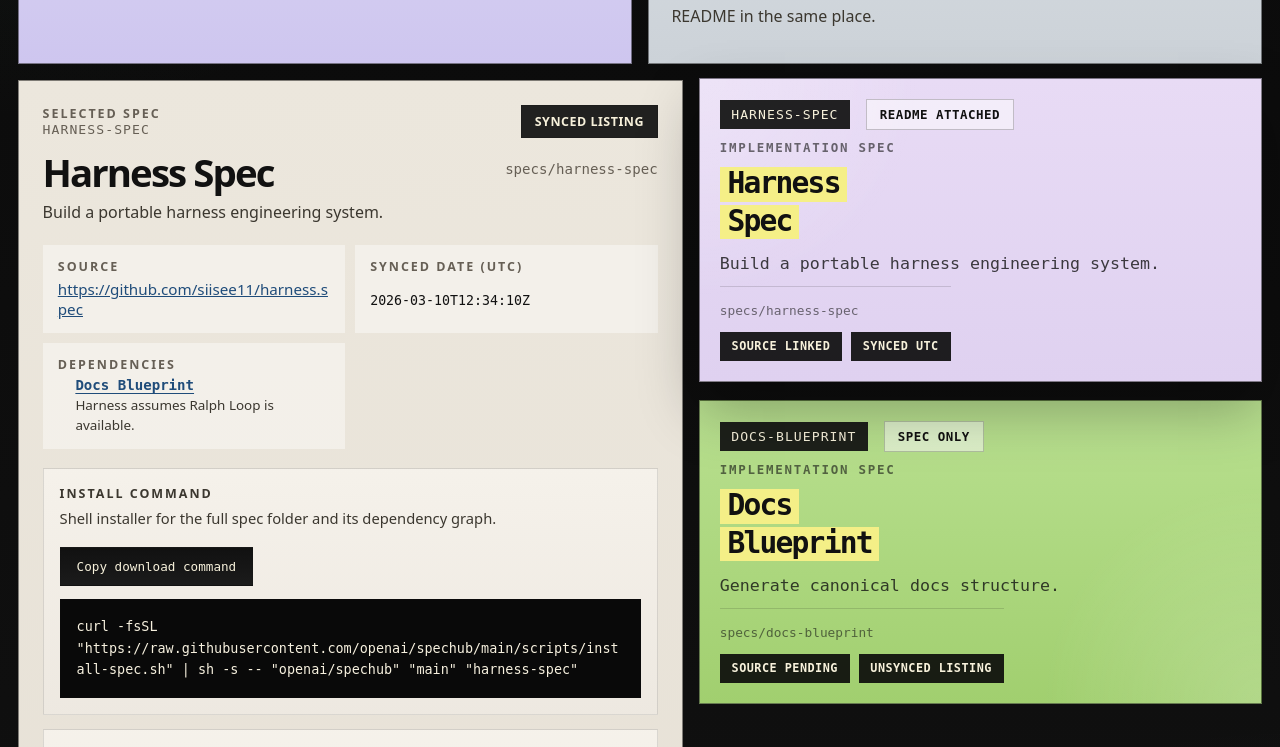
Test: App › lets users jump to a dependency from the selected spec panel
(page scrolled)
Click the button "Docs Blueprint". click: (135, 385)
box: [75, 377, 194, 393]
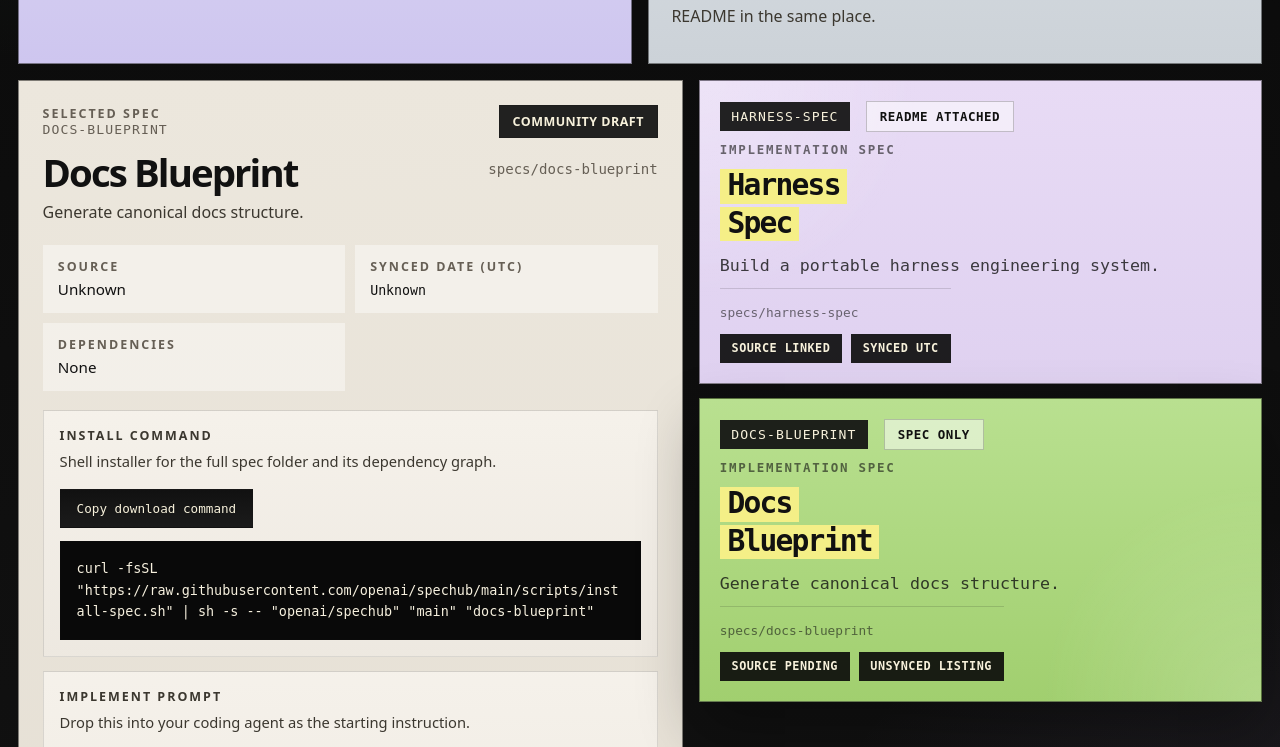
Expected: the heading "Docs Blueprint" below "Community draft" is shown, [43, 154, 304, 191]
